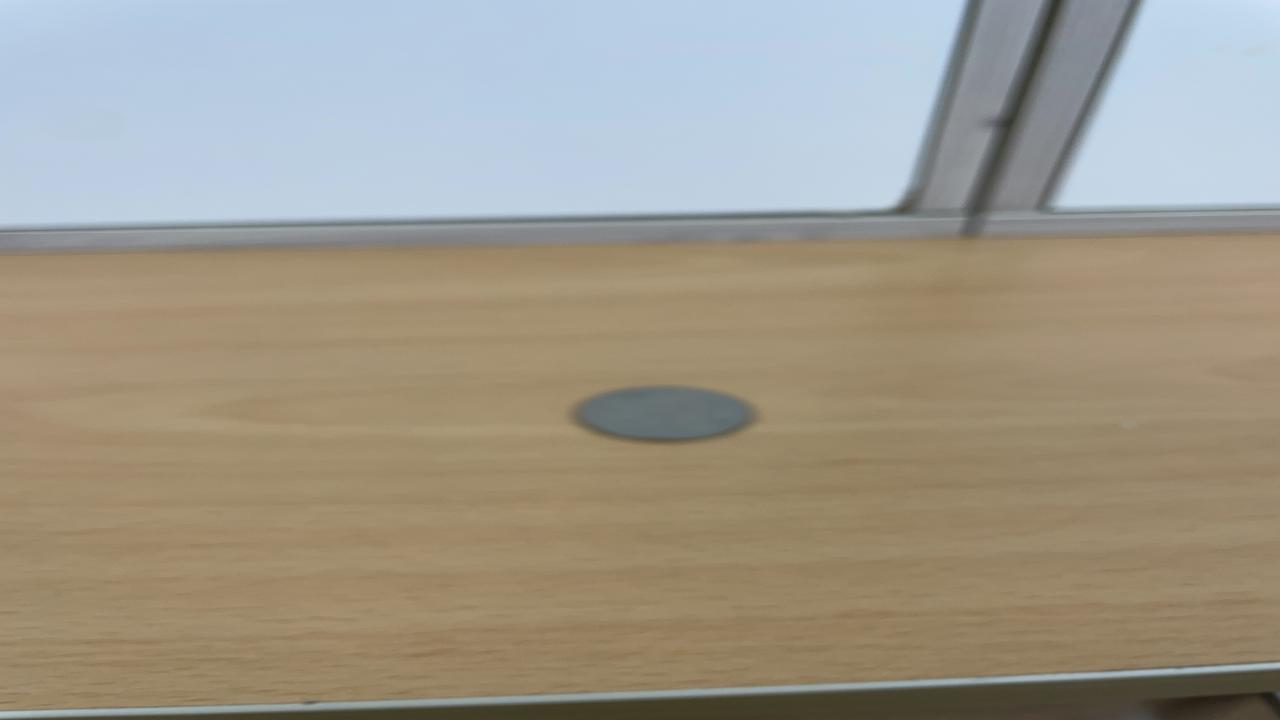coin: (566, 382, 760, 443)
